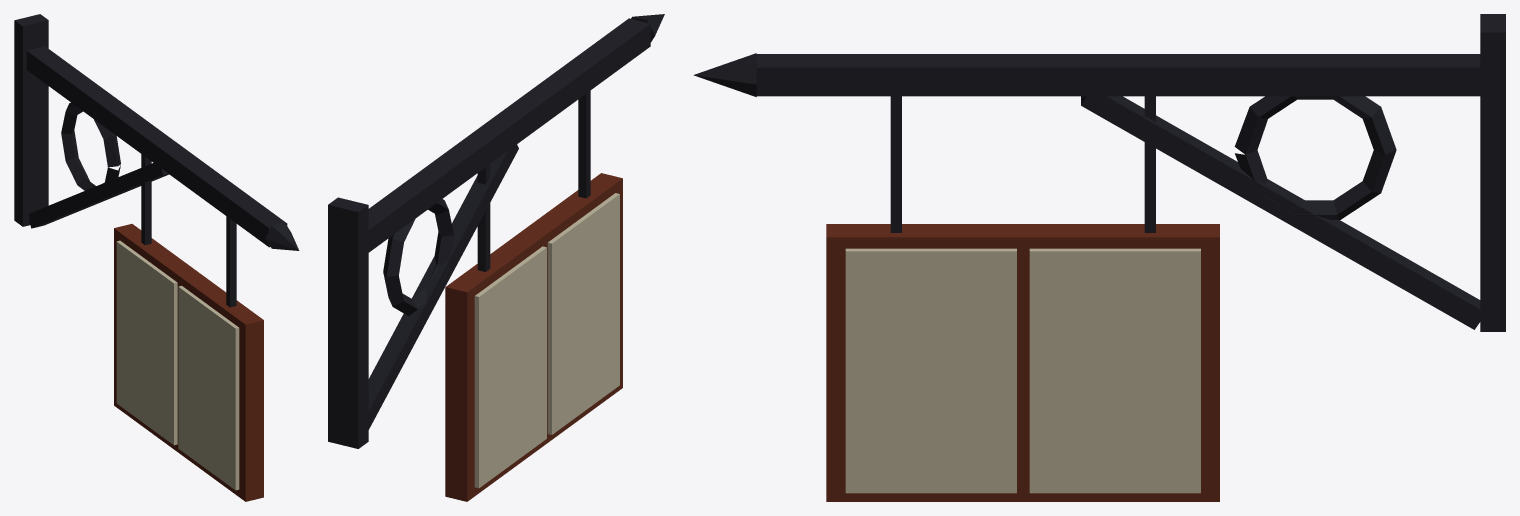
File: shop-sign-bookseller.glb
The picture shows the model from 3 angles, left to right: view 1: azimuth 30°, elevation 25°; view 2: azimuth 150°, elevation 25°; view 3: azimuth 270°, elevation 25°; orthographic projection. The views are drawn at different scales.
Visible parts, largest first — view 1: shop-sign-bookseller; view 2: shop-sign-bookseller; view 3: shop-sign-bookseller.
Boxes of the visible parts, bbox=[...] form: shop-sign-bookseller: bbox=[14, 14, 299, 501]; shop-sign-bookseller: bbox=[328, 14, 664, 501]; shop-sign-bookseller: bbox=[693, 14, 1505, 501].
Bounding box in the file's own units: 0.07 × 0.82 × 1.28.
